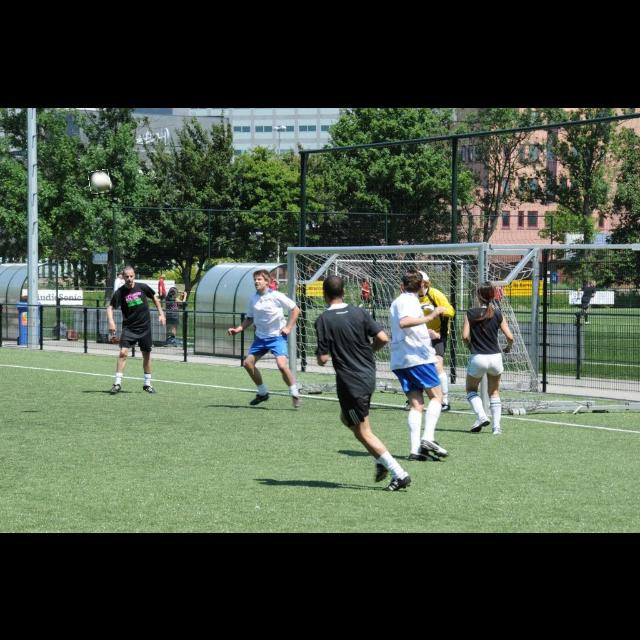Football: (90, 170, 110, 194)
